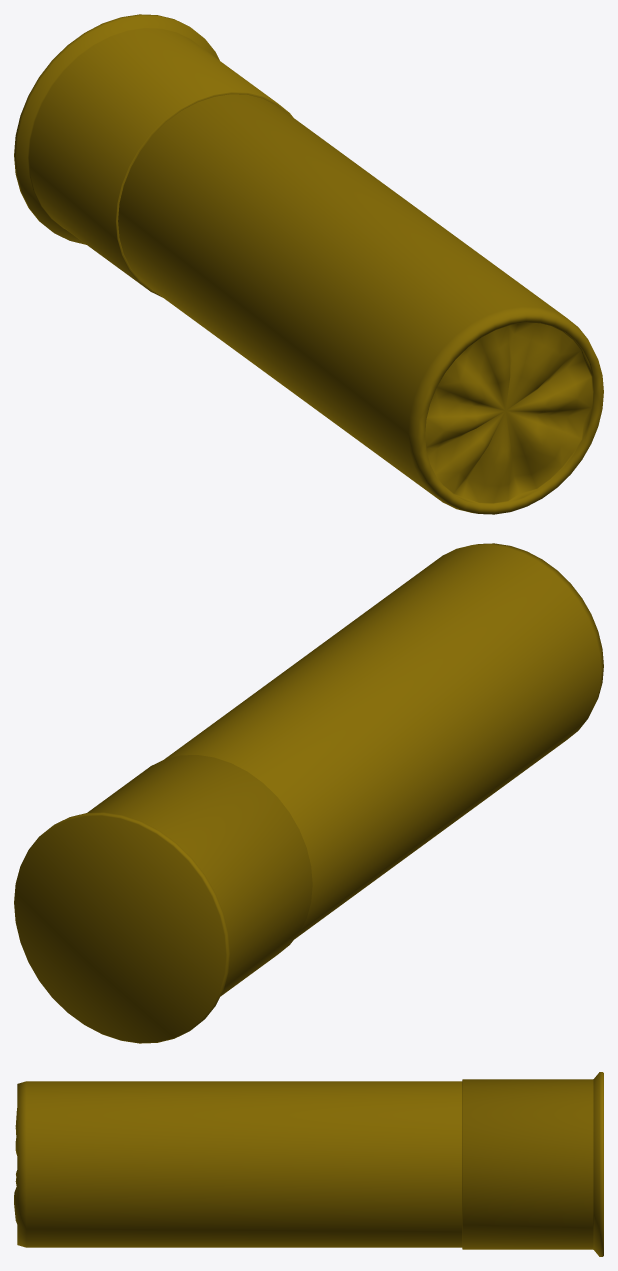
Rendered from 12ga_Flechette.FBX.
3 renders of one model, top to bottom at view 1: azimuth 30°, elevation 25°; view 2: azimuth 150°, elevation 25°; view 3: azimuth 270°, elevation 25°, orthographic. The views are drawn at different scales.
Visible parts, largest first — view 1: 12ga_Flechette; view 2: 12ga_Flechette; view 3: 12ga_Flechette.
Boxes of the visible parts, bbox=[...] form: 12ga_Flechette: bbox=[14, 14, 603, 514]; 12ga_Flechette: bbox=[14, 543, 603, 1043]; 12ga_Flechette: bbox=[14, 1072, 603, 1256].
Bounding box in the file's own units: 2.06 × 6.54 × 2.06.
